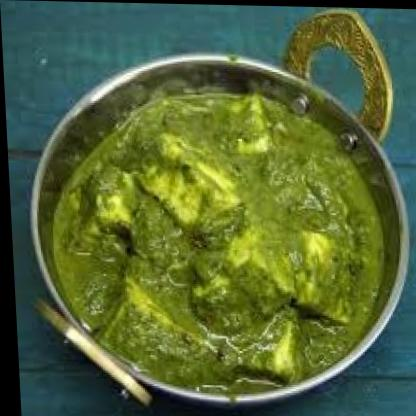palak_paneer: (43, 89, 388, 398)
